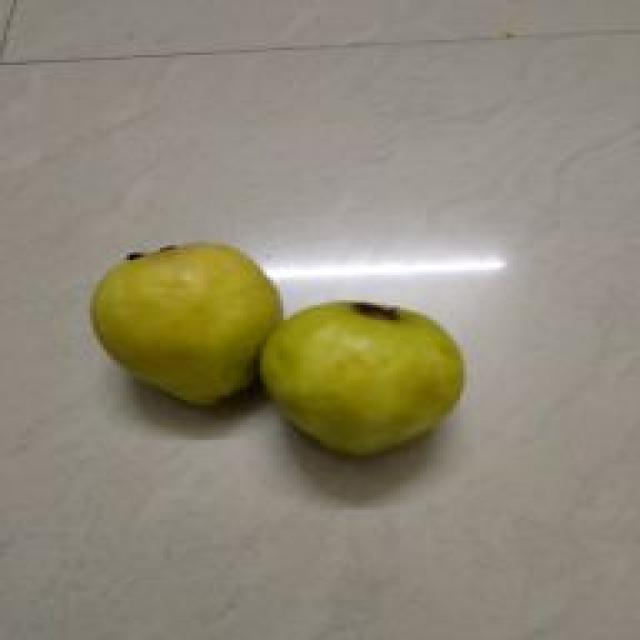Good_Guava: (90, 242, 287, 410), (260, 302, 467, 458)
